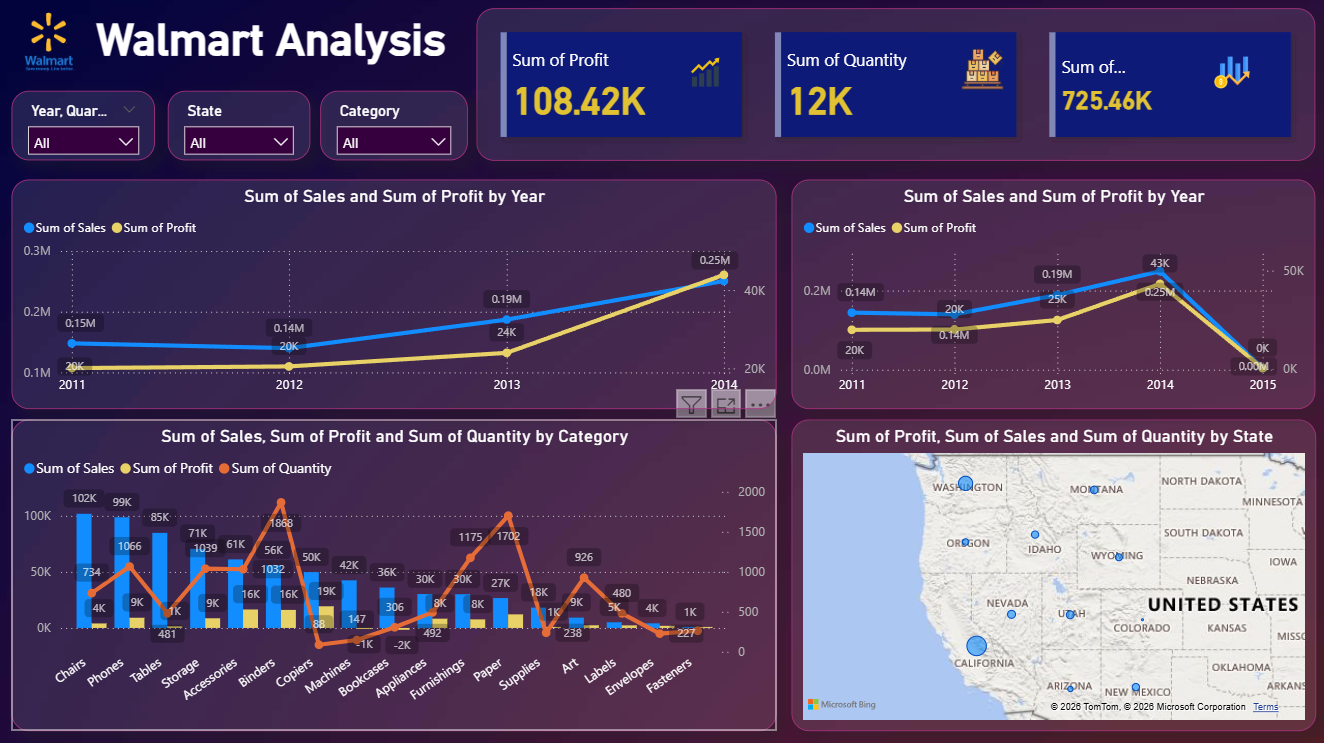

Layout of this report page (visuals, bound fields, positions):
{"tool":"powerbi","page":{"name":"Page 1","canvas":[1280,720],"ordinal":0},"visuals":[{"type":"textbox","title":"Walmart Analysis","box":[72.4,18.1,380,50.7],"z":0},{"type":"image","box":[12.1,7.2,72.4,72.4],"z":1000},{"type":"map","fields":{"Category":["Walmart.State"],"Size":["Sum(Walmart.Profit)"]},"box":[764.3,407.5,506.3,300.5],"z":2000},{"type":"lineClusteredColumnComboChart","fields":{"Category":["Walmart.Category"],"Y":["Sum(Walmart.Sales)","Sum(Walmart.Profit)"],"Y2":["Sum(Walmart.Quantity)"]},"box":[12.3,407.5,738.3,300.5],"z":3000},{"type":"lineChart","fields":{"Category":["Walmart.Order Date.Variation.Date Hierarchy.Year"],"Y":["Sum(Walmart.Sales)"],"Y2":["Sum(Walmart.Profit)"]},"box":[12.1,176.1,738.3,222],"z":4000},{"type":"lineChart","fields":{"Category":["Walmart.Ship Date.Variation.Date Hierarchy.Year"],"Y":["Sum(Walmart.Sales)"],"Y2":["Sum(Walmart.Profit)"]},"box":[764.9,176.1,505.5,222],"z":5000},{"type":"cardVisual","fields":{"Data":["Sum(Walmart.Profit)","Sum(Walmart.Quantity)","Sum(Walmart.Sales)"]},"box":[472.9,10.9,797.5,147.2],"z":6000},{"type":"slicer","fields":{"Values":["Walmart.Order Date.Variation.Date Hierarchy.Year","Walmart.Order Date.Variation.Date Hierarchy.Quarter"]},"box":[12.1,90.5,138.7,67.6],"z":7000},{"type":"slicer","fields":{"Values":["Walmart.State"]},"box":[162.9,90.5,137.5,67.6],"z":8000},{"type":"slicer","fields":{"Values":["Walmart.Category"]},"box":[310.1,90.5,142.4,67.6],"z":9000}]}

Visuals, with their boxes in screenshot pixels (x1, y1, x2, y2), scaled from the page's 1280x720 canvas onto the 1324x743 screenshot:
"Walmart Analysis" textbox: (x1=75, y1=19, x2=468, y2=71)
image: (x1=13, y1=7, x2=87, y2=82)
map - Walmart.State x Sum(Walmart.Profit): (x1=791, y1=421, x2=1314, y2=731)
lineClusteredColumnComboChart - Walmart.Category x Sum(Walmart.Sales): (x1=13, y1=421, x2=776, y2=731)
lineChart - Walmart.Order Date.Variation.Date Hierarchy.Year x Sum(Walmart.Sales): (x1=13, y1=182, x2=776, y2=411)
lineChart - Walmart.Ship Date.Variation.Date Hierarchy.Year x Sum(Walmart.Sales): (x1=791, y1=182, x2=1314, y2=411)
cardVisual - Sum(Walmart.Profit) x Sum(Walmart.Quantity): (x1=489, y1=11, x2=1314, y2=163)
slicer - Walmart.Order Date.Variation.Date Hierarchy.Year x Walmart.Order Date.Variation.Date Hierarchy.Quarter: (x1=13, y1=93, x2=156, y2=163)
slicer - Walmart.State: (x1=168, y1=93, x2=311, y2=163)
slicer - Walmart.Category: (x1=321, y1=93, x2=468, y2=163)
